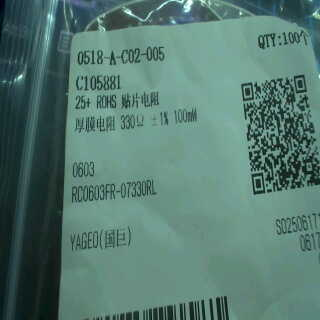330R: (118, 111, 146, 135)
